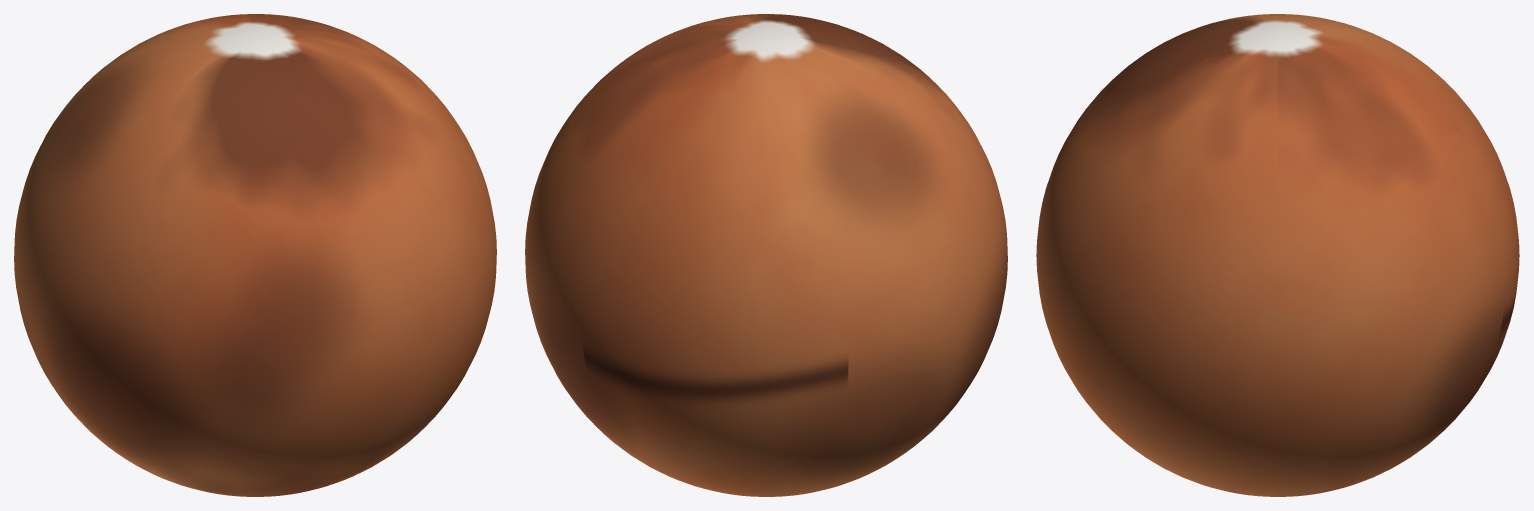
File: planet_mars.glb
The picture shows the model from 3 angles, left to right: view 1: azimuth 30°, elevation 25°; view 2: azimuth 150°, elevation 25°; view 3: azimuth 270°, elevation 25°; orthographic projection.
Parts seen in each view (by area): view 1: planet_mars; view 2: planet_mars; view 3: planet_mars.
Part boxes in pixels (box(x1,y1,x2,y2)): planet_mars: box(14, 14, 496, 496); planet_mars: box(525, 14, 1007, 496); planet_mars: box(1036, 14, 1519, 496).
Size of the model in its own units: 1 by 1 by 1.
1 material, 1 textured.
